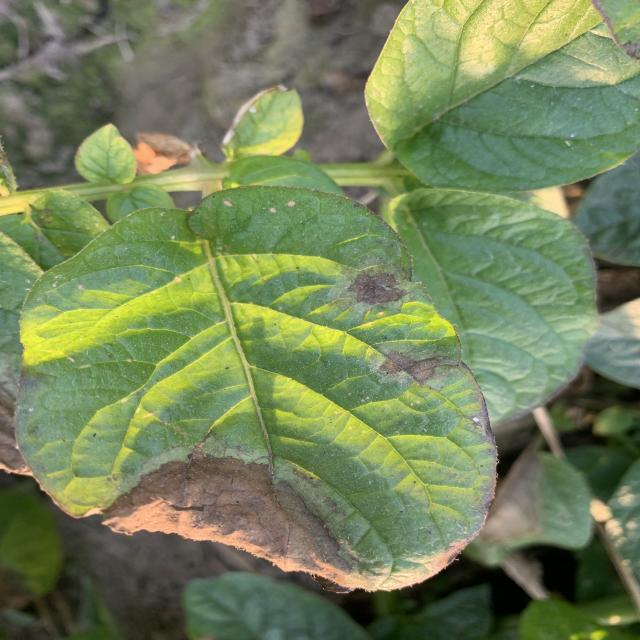lateblight: (103, 452, 373, 592), (382, 351, 460, 384), (348, 272, 407, 304)
